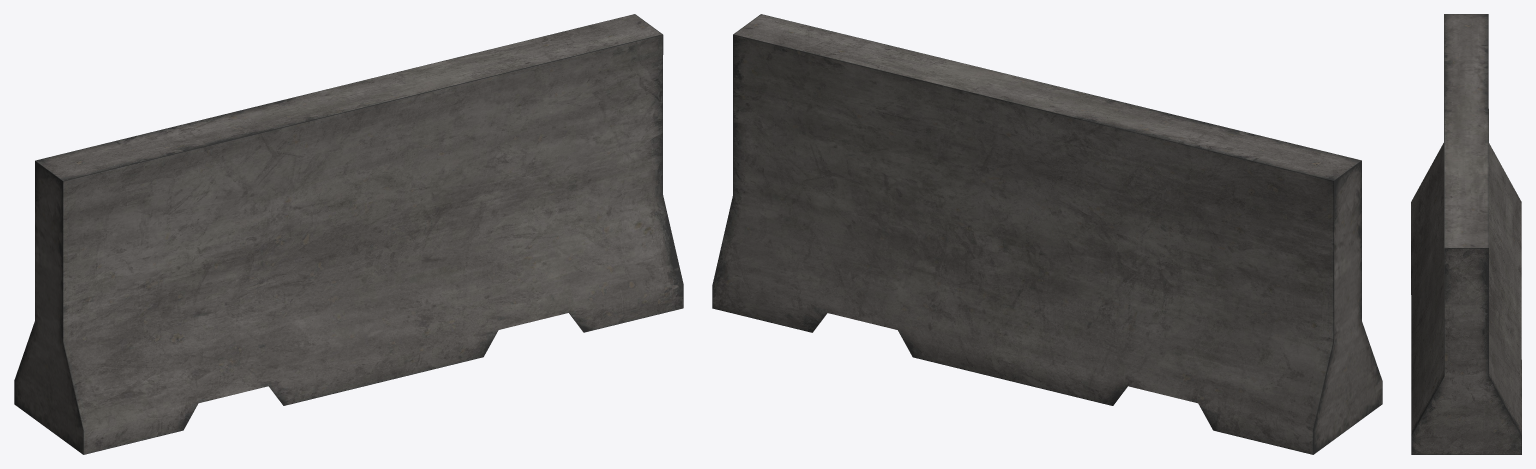
File: Jersey.fbx
3 views of the same model, side by side, from view 1: azimuth 30°, elevation 25°; view 2: azimuth 150°, elevation 25°; view 3: azimuth 270°, elevation 25° (orthographic). The views are drawn at different scales.
Parts seen in each view (by area): view 1: Jersey; view 2: Jersey; view 3: Jersey.
Boxes of the visible parts, x1=… form: Jersey: x1=14, y1=14, x2=683, y2=454; Jersey: x1=712, y1=14, x2=1382, y2=454; Jersey: x1=1411, y1=14, x2=1521, y2=454.
Size of the model in its own units: 267 by 110 by 53.44.
